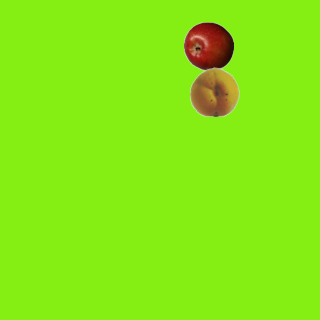Apple Braeburn: (183, 21, 233, 71)
Peach 2: (189, 66, 239, 116)
